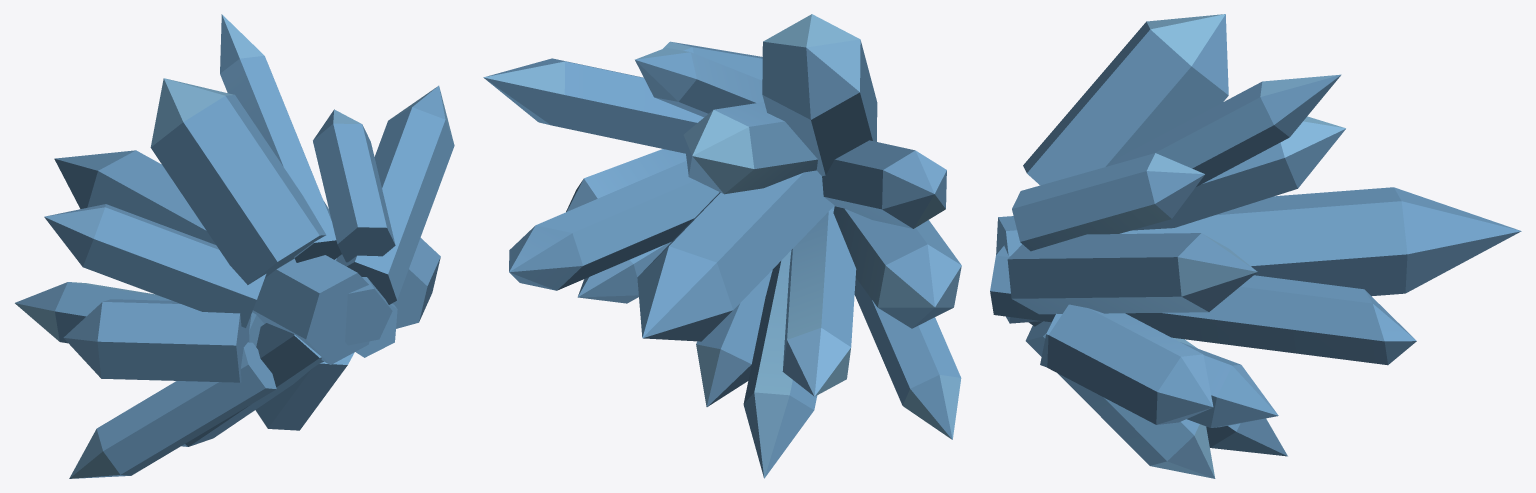
Rendered from IceCrystalCluster.001.glb.
The picture shows the model from 3 angles, left to right: view 1: azimuth 30°, elevation 25°; view 2: azimuth 150°, elevation 25°; view 3: azimuth 270°, elevation 25°; orthographic projection. The views are drawn at different scales.
Parts seen in each view (by area): view 1: IceCrystalCluster.001; view 2: IceCrystalCluster.001; view 3: IceCrystalCluster.001.
Part boxes in pixels (box(x1,y1,x2,y2)): IceCrystalCluster.001: box(15, 14, 454, 478); IceCrystalCluster.001: box(483, 14, 961, 478); IceCrystalCluster.001: box(990, 14, 1521, 478).
Bounding box in the file's own units: 943 × 853 × 943.
